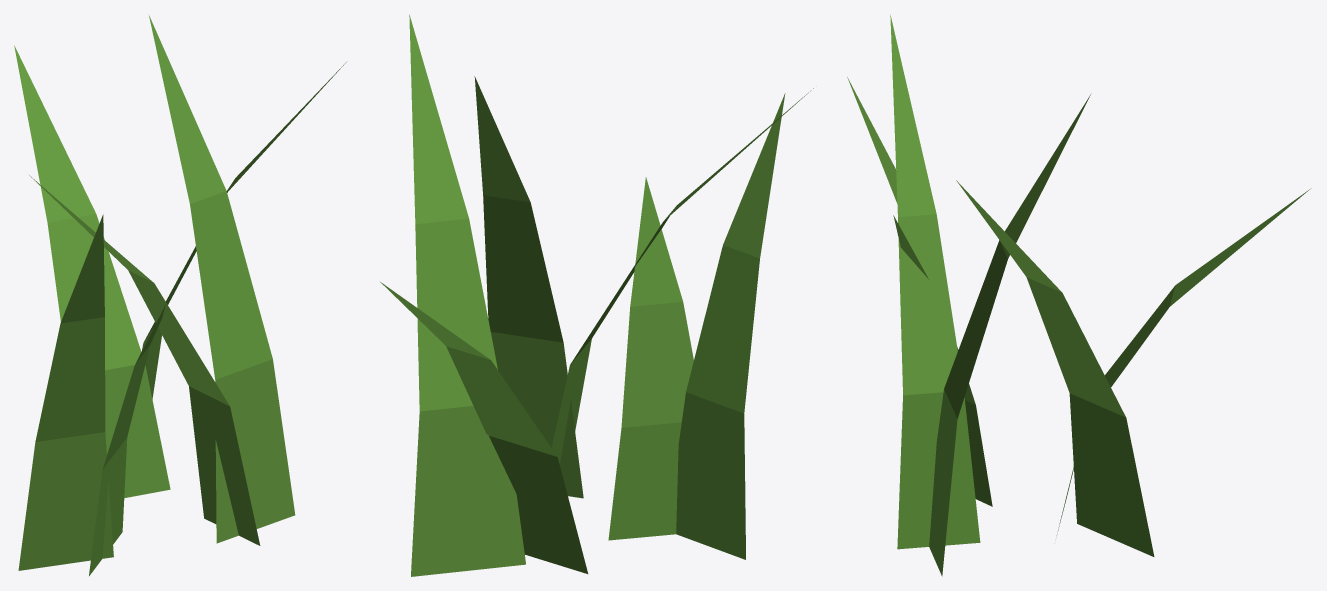
Rendered from SM_GrassClump_01.fbx.
The picture shows the model from 3 angles, left to right: view 1: azimuth 30°, elevation 25°; view 2: azimuth 150°, elevation 25°; view 3: azimuth 270°, elevation 25°; orthographic projection. The views are drawn at different scales.
Visible parts, largest first — view 1: SM_GrassClump_01; view 2: SM_GrassClump_01; view 3: SM_GrassClump_01.
Boxes of the visible parts, <box> form: SM_GrassClump_01: <box>14,14,346,575</box>; SM_GrassClump_01: <box>380,14,813,576</box>; SM_GrassClump_01: <box>847,14,1311,576</box>.
Bounding box in the file's own units: 0.3562 × 0.4411 × 0.4128.
